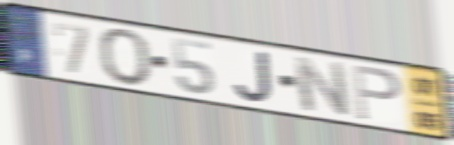5: (170, 36, 216, 96)
7: (51, 21, 92, 76)
J: (231, 49, 275, 105)
N: (290, 54, 353, 119)
O: (96, 27, 153, 88)
P: (350, 62, 403, 123)
